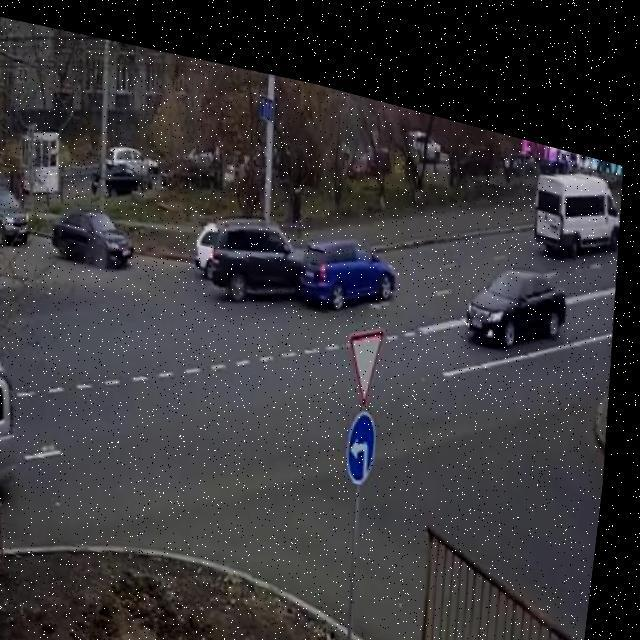Car Accident Detector - v4 Generation1 Exported: (193, 183, 394, 323)
